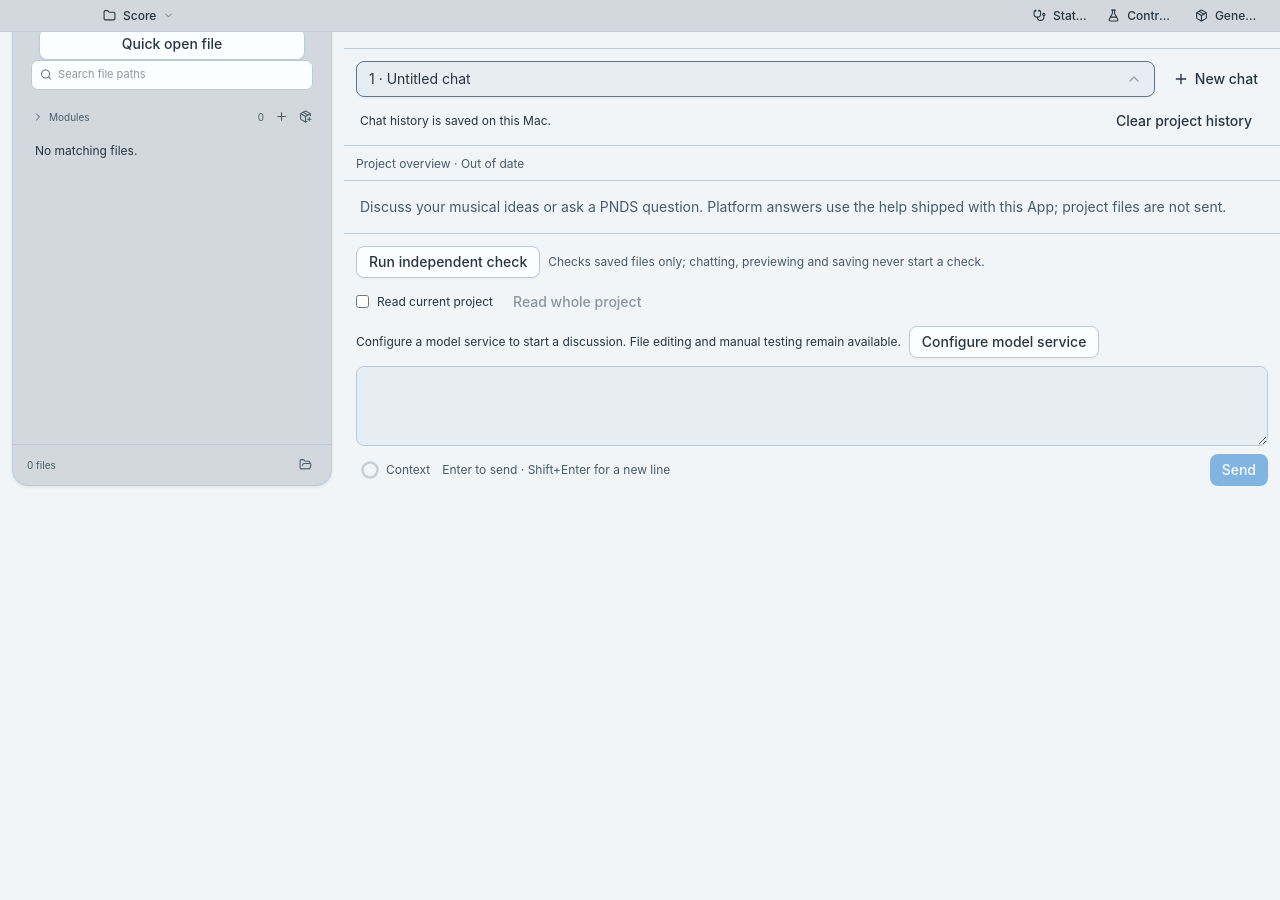
Test: reports a static validation failure and leaves the running project and drafts alone
Click the button "Generate .pnds": (1227, 16) [1188, 4, 1266, 28]
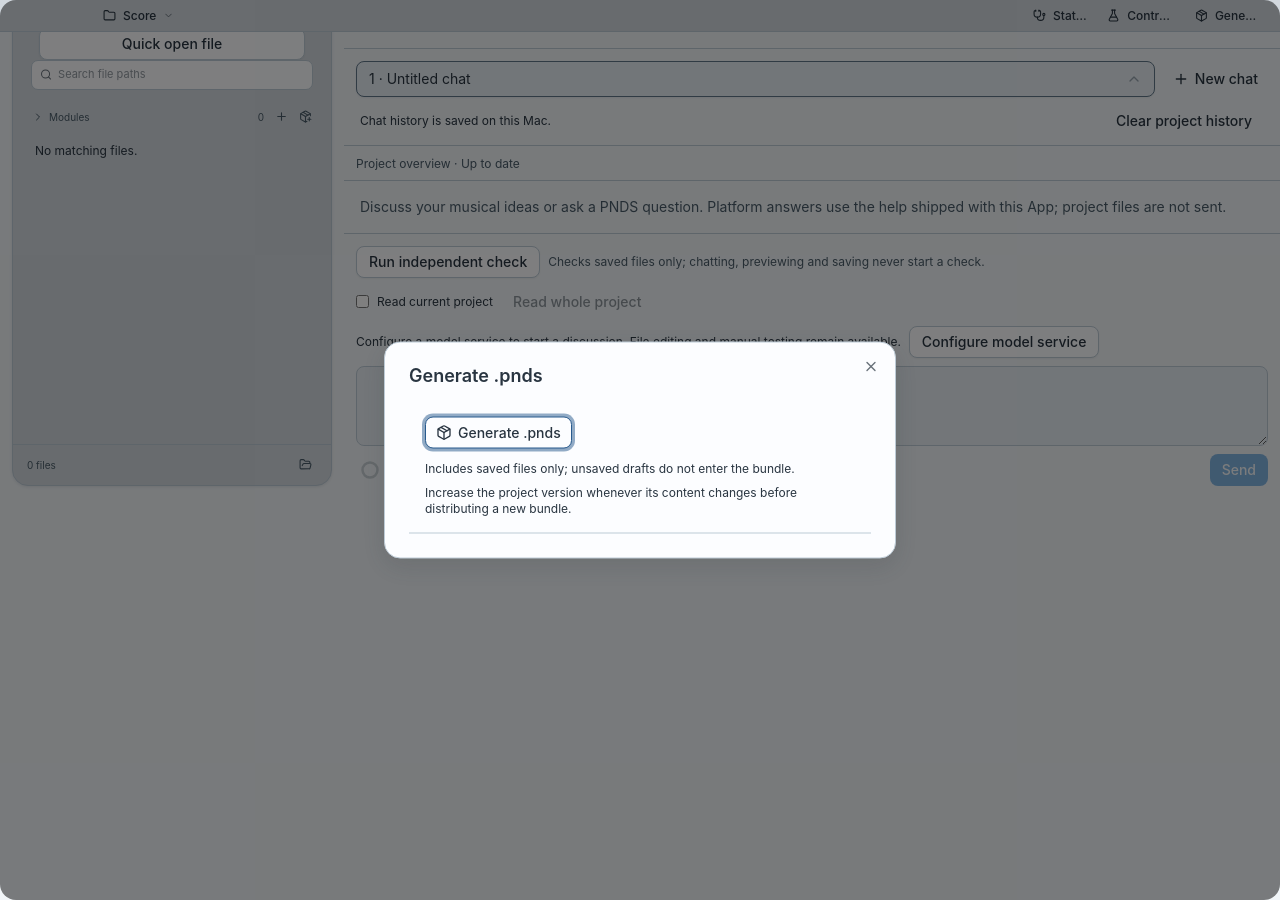
Click the button "Generate .pnds": (498, 432) [425, 416, 572, 448]
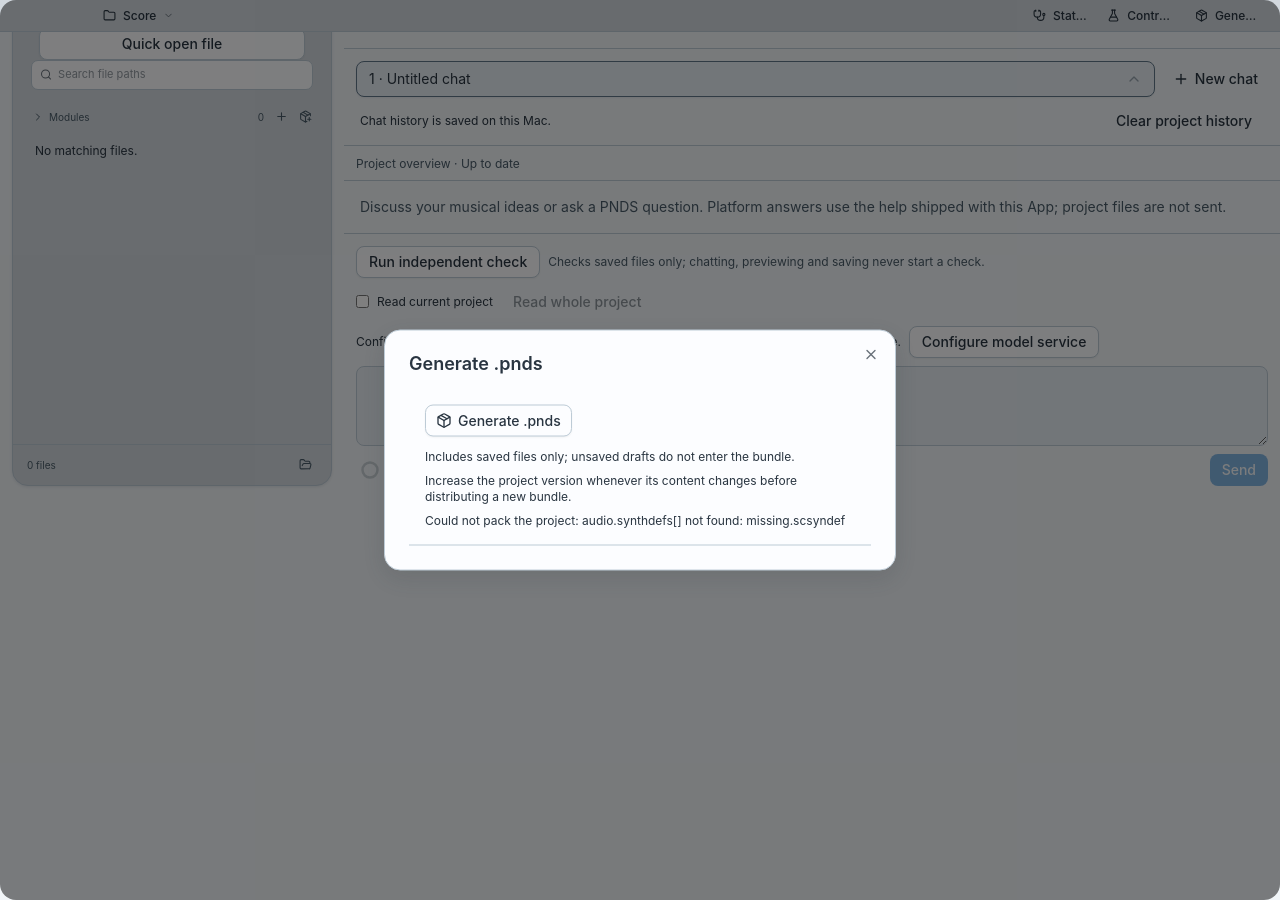
Result: the message shows "missing.scsyndef" at [582, 512, 845, 528]
